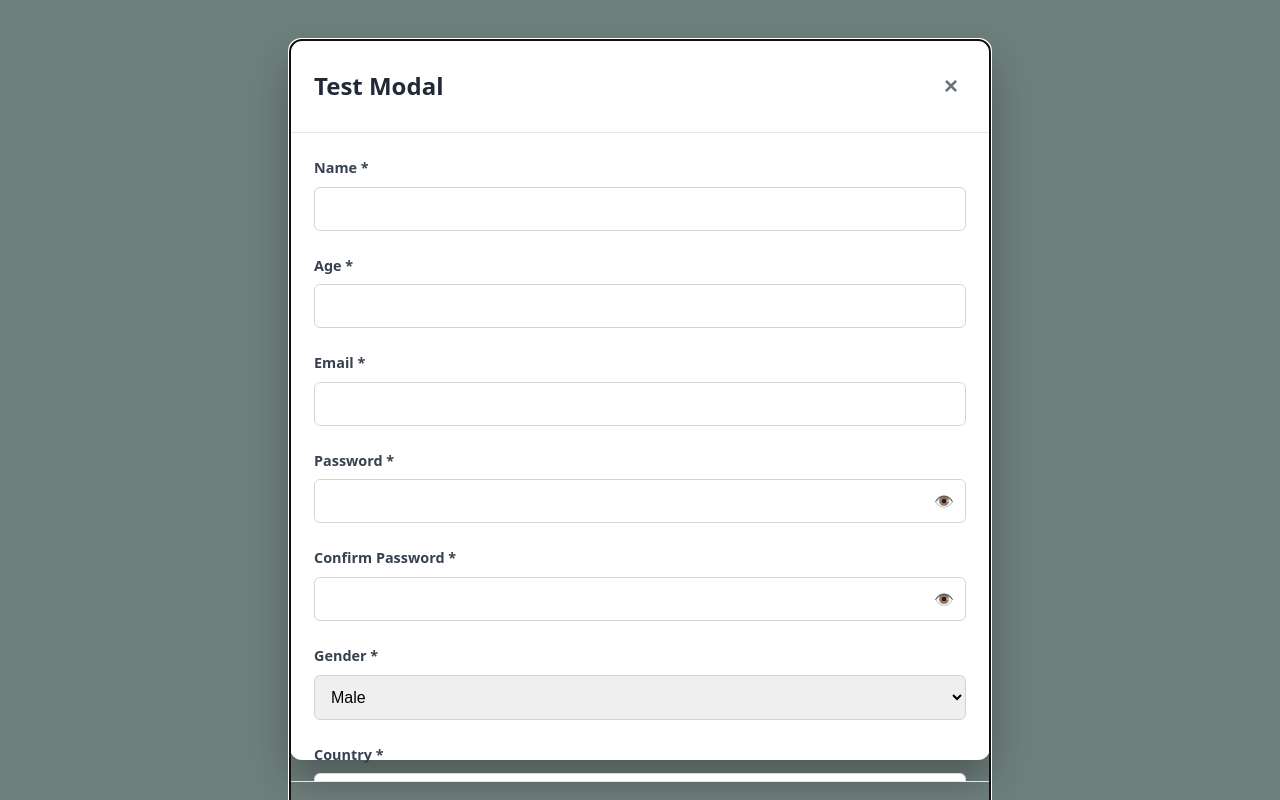
ReactHookForm Component › Field Validation › should validate name field correctly
Type "A" into the field labelled "Name *" at (640, 209), box x1=314 y1=187 x2=966 y2=231
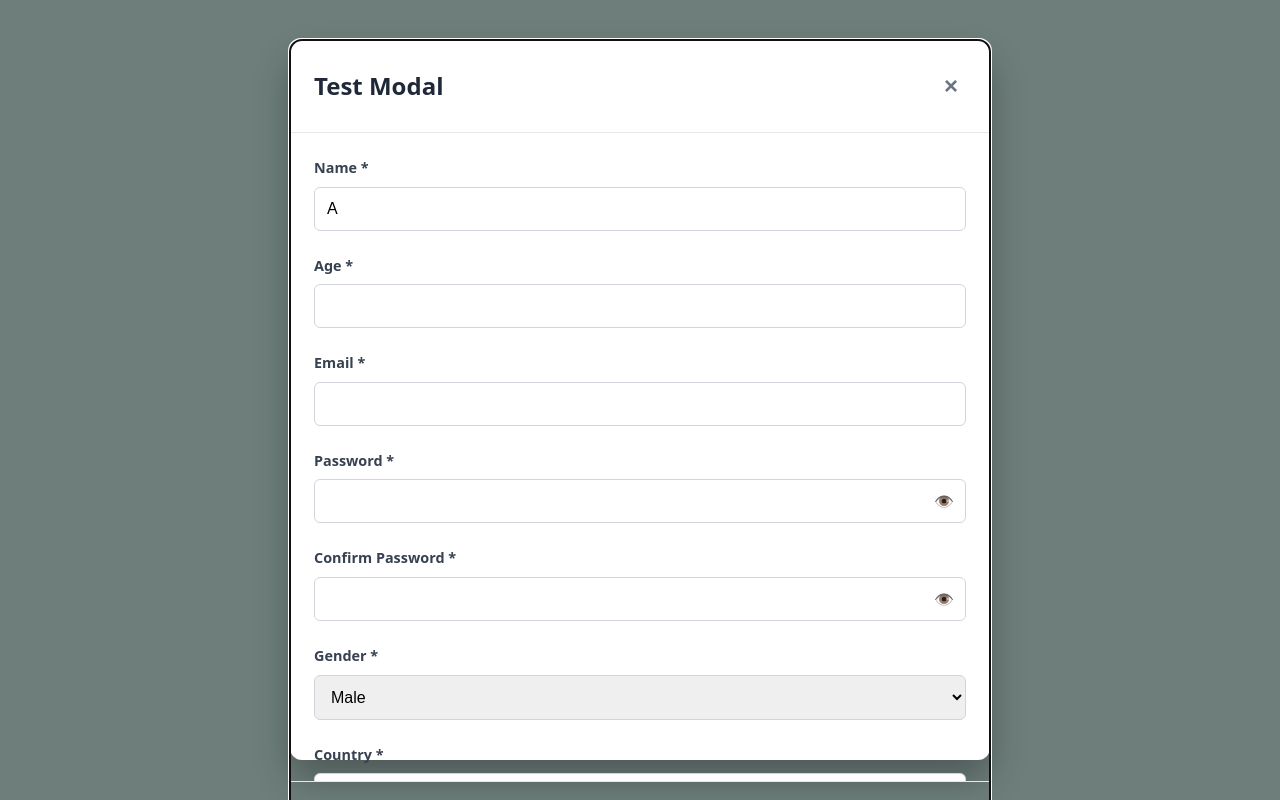
Leave the field labelled "Name *", box x1=314 y1=187 x2=966 y2=231
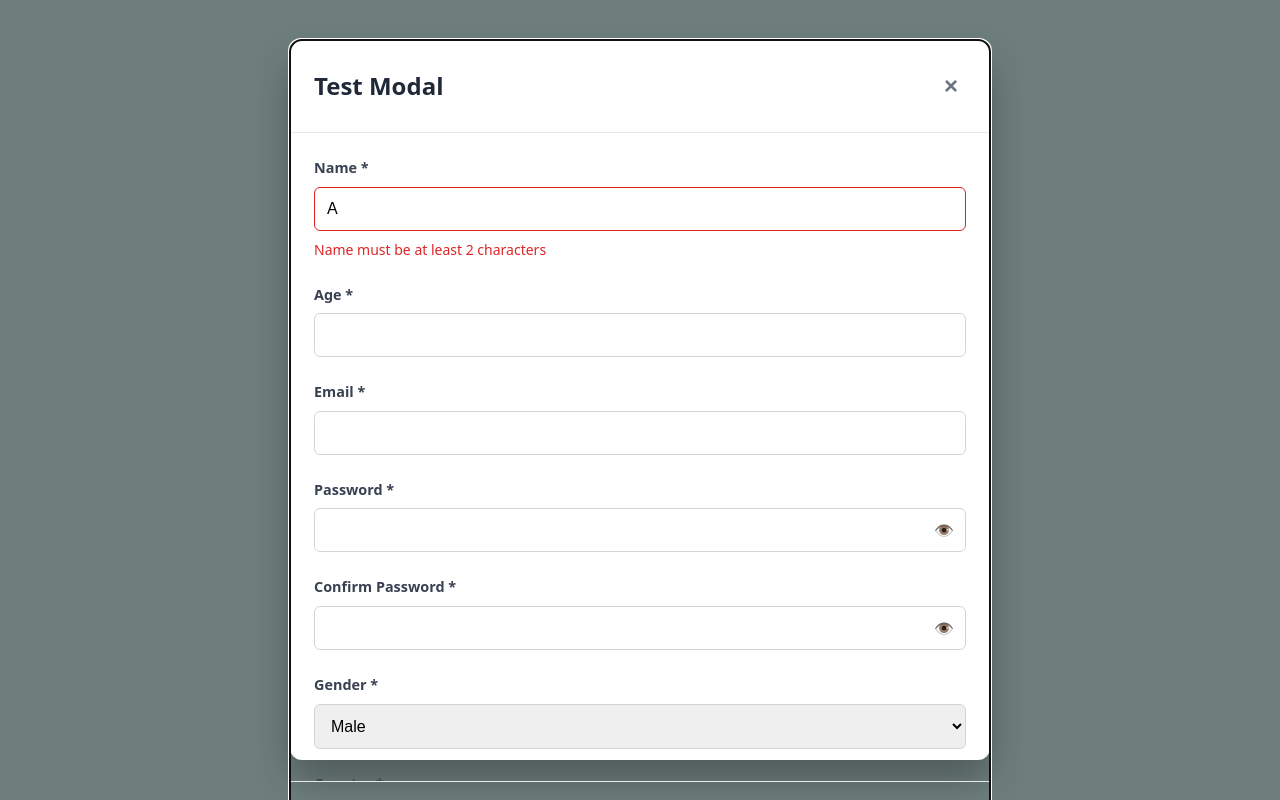
expect the text "Name must be at least 2 characters" is shown: met, box x1=314 y1=240 x2=546 y2=259
Replace the text in the field labelled "Name *" with "John Doe" at (640, 209), box x1=314 y1=187 x2=966 y2=231
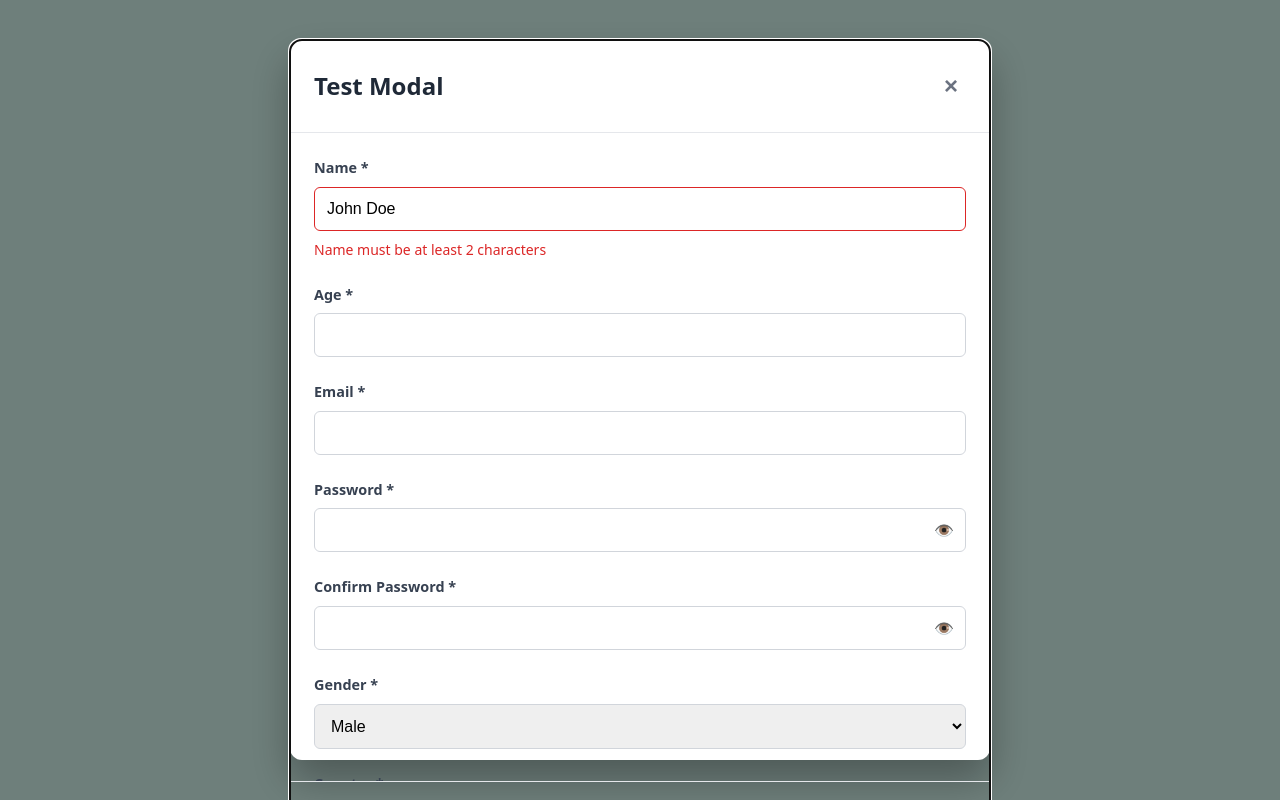
Leave the field labelled "Name *", box x1=314 y1=187 x2=966 y2=231
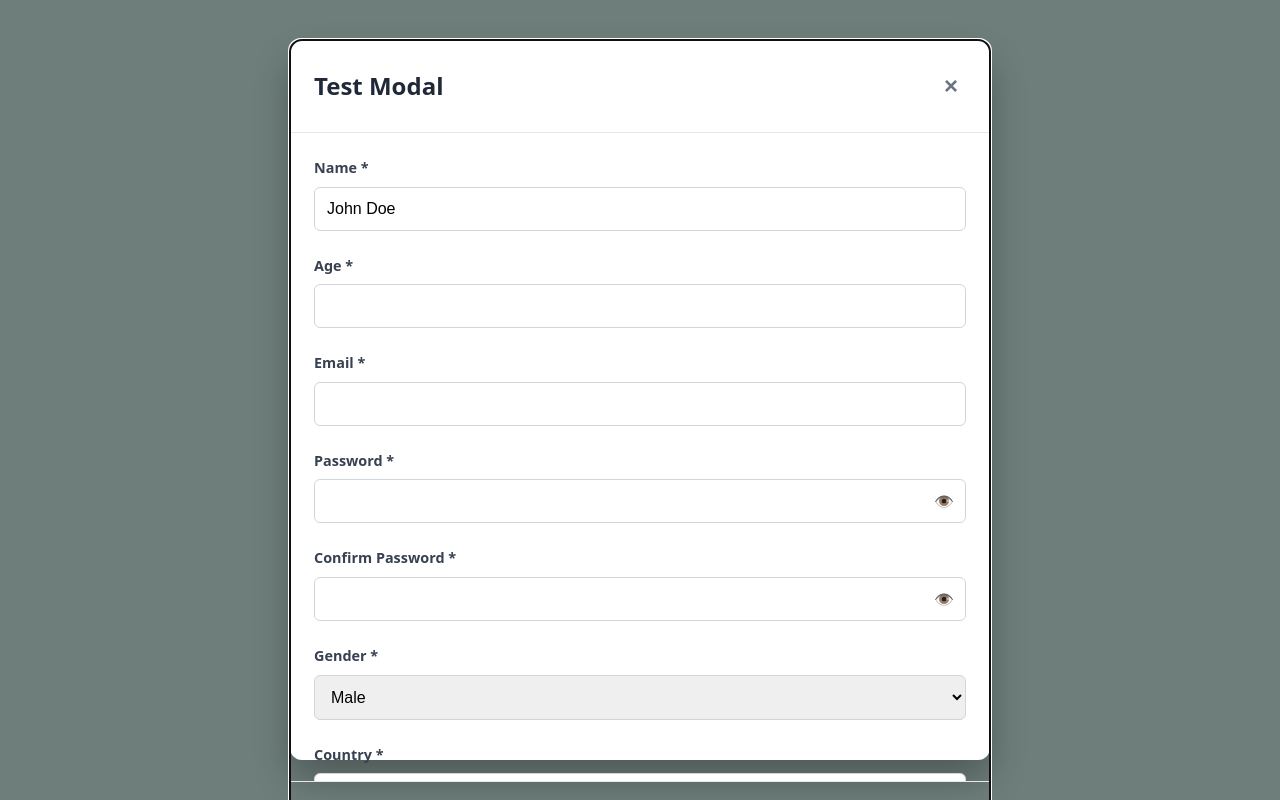
expect the text "Name must be at least 2 characters" is gone: met
